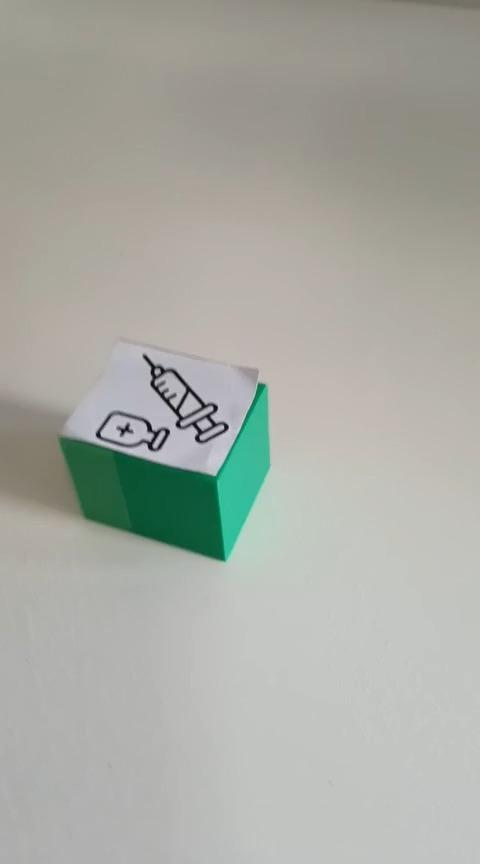antiseptic cream: (56, 336, 271, 562)
